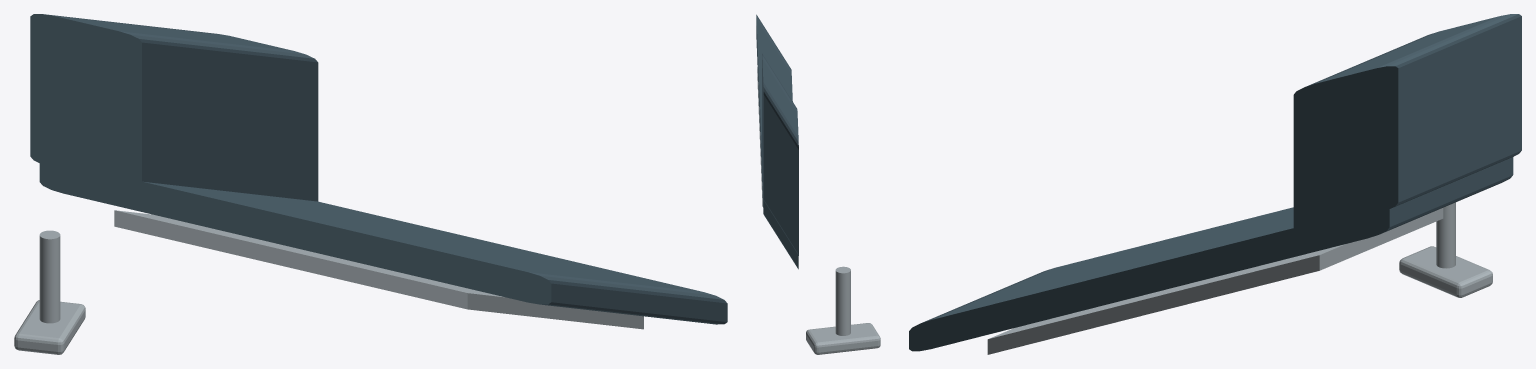
The model's file is cabin_bench_45s_left.glb.
3 views of the same model, side by side, from view 1: azimuth 30°, elevation 25°; view 2: azimuth 150°, elevation 25°; view 3: azimuth 270°, elevation 25° (orthographic). The views are drawn at different scales.
Visible parts, largest first — view 1: Bench upright back.031, Bench seat cushion.031, Bench support beam.031, Bench foot.087, Bench pedestal.087; view 2: Bench upright back.031, Bench seat cushion.031, Bench foot.087, Bench pedestal.087, Bench support beam.031; view 3: Bench upright back.031, Bench seat cushion.031, Bench support beam.031, Bench foot.087, Bench pedestal.087.
Part boxes in pixels (x1,y1,x2,y2): Bench upright back.031: [30, 14, 318, 201]; Bench seat cushion.031: [39, 161, 727, 324]; Bench support beam.031: [114, 210, 643, 329]; Bench foot.087: [14, 300, 85, 354]; Bench pedestal.087: [39, 230, 60, 323]; Bench upright back.031: [762, 53, 798, 255]; Bench seat cushion.031: [756, 14, 798, 269]; Bench foot.087: [806, 323, 880, 354]; Bench pedestal.087: [835, 266, 850, 335]; Bench support beam.031: [757, 67, 762, 206]; Bench upright back.031: [1293, 14, 1521, 231]; Bench seat cushion.031: [909, 157, 1513, 351]; Bench support beam.031: [987, 208, 1443, 354]; Bench foot.087: [1399, 246, 1492, 297]; Bench pedestal.087: [1436, 202, 1455, 268].
Bounding box in the file's own units: 1.97 × 1.25 × 2.48.
